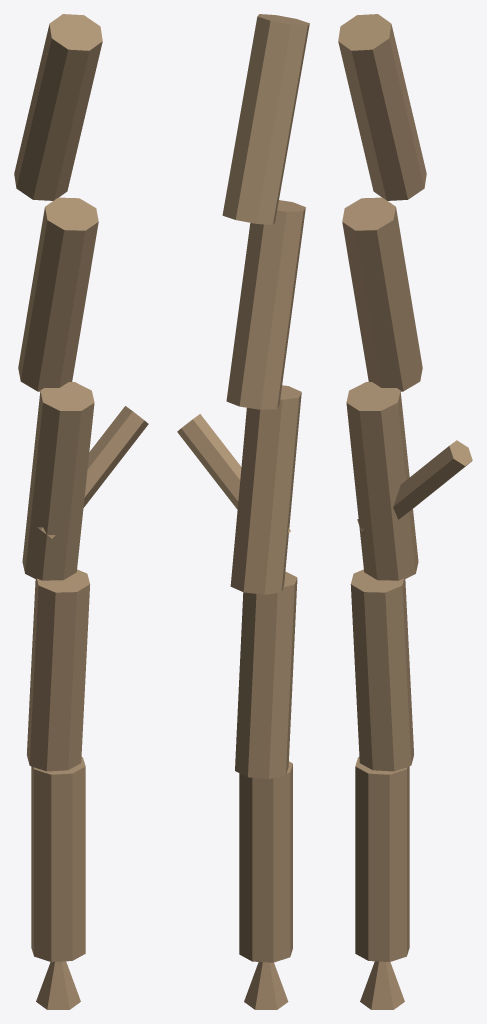
Rendered from stick_1.glb.
3 renders of one model, left to right at view 1: azimuth 30°, elevation 25°; view 2: azimuth 150°, elevation 25°; view 3: azimuth 330°, elevation 25°, orthographic.
Parts seen in each view (by area): view 1: WoodenStick; view 2: WoodenStick; view 3: WoodenStick.
Part boxes in pixels (box(x1,y1,x2,y2)): WoodenStick: box(14, 14, 148, 1009); WoodenStick: box(177, 14, 309, 1009); WoodenStick: box(338, 14, 472, 1009).
Size of the model in its own units: 0.0682 by 0.5818 by 0.0658.
